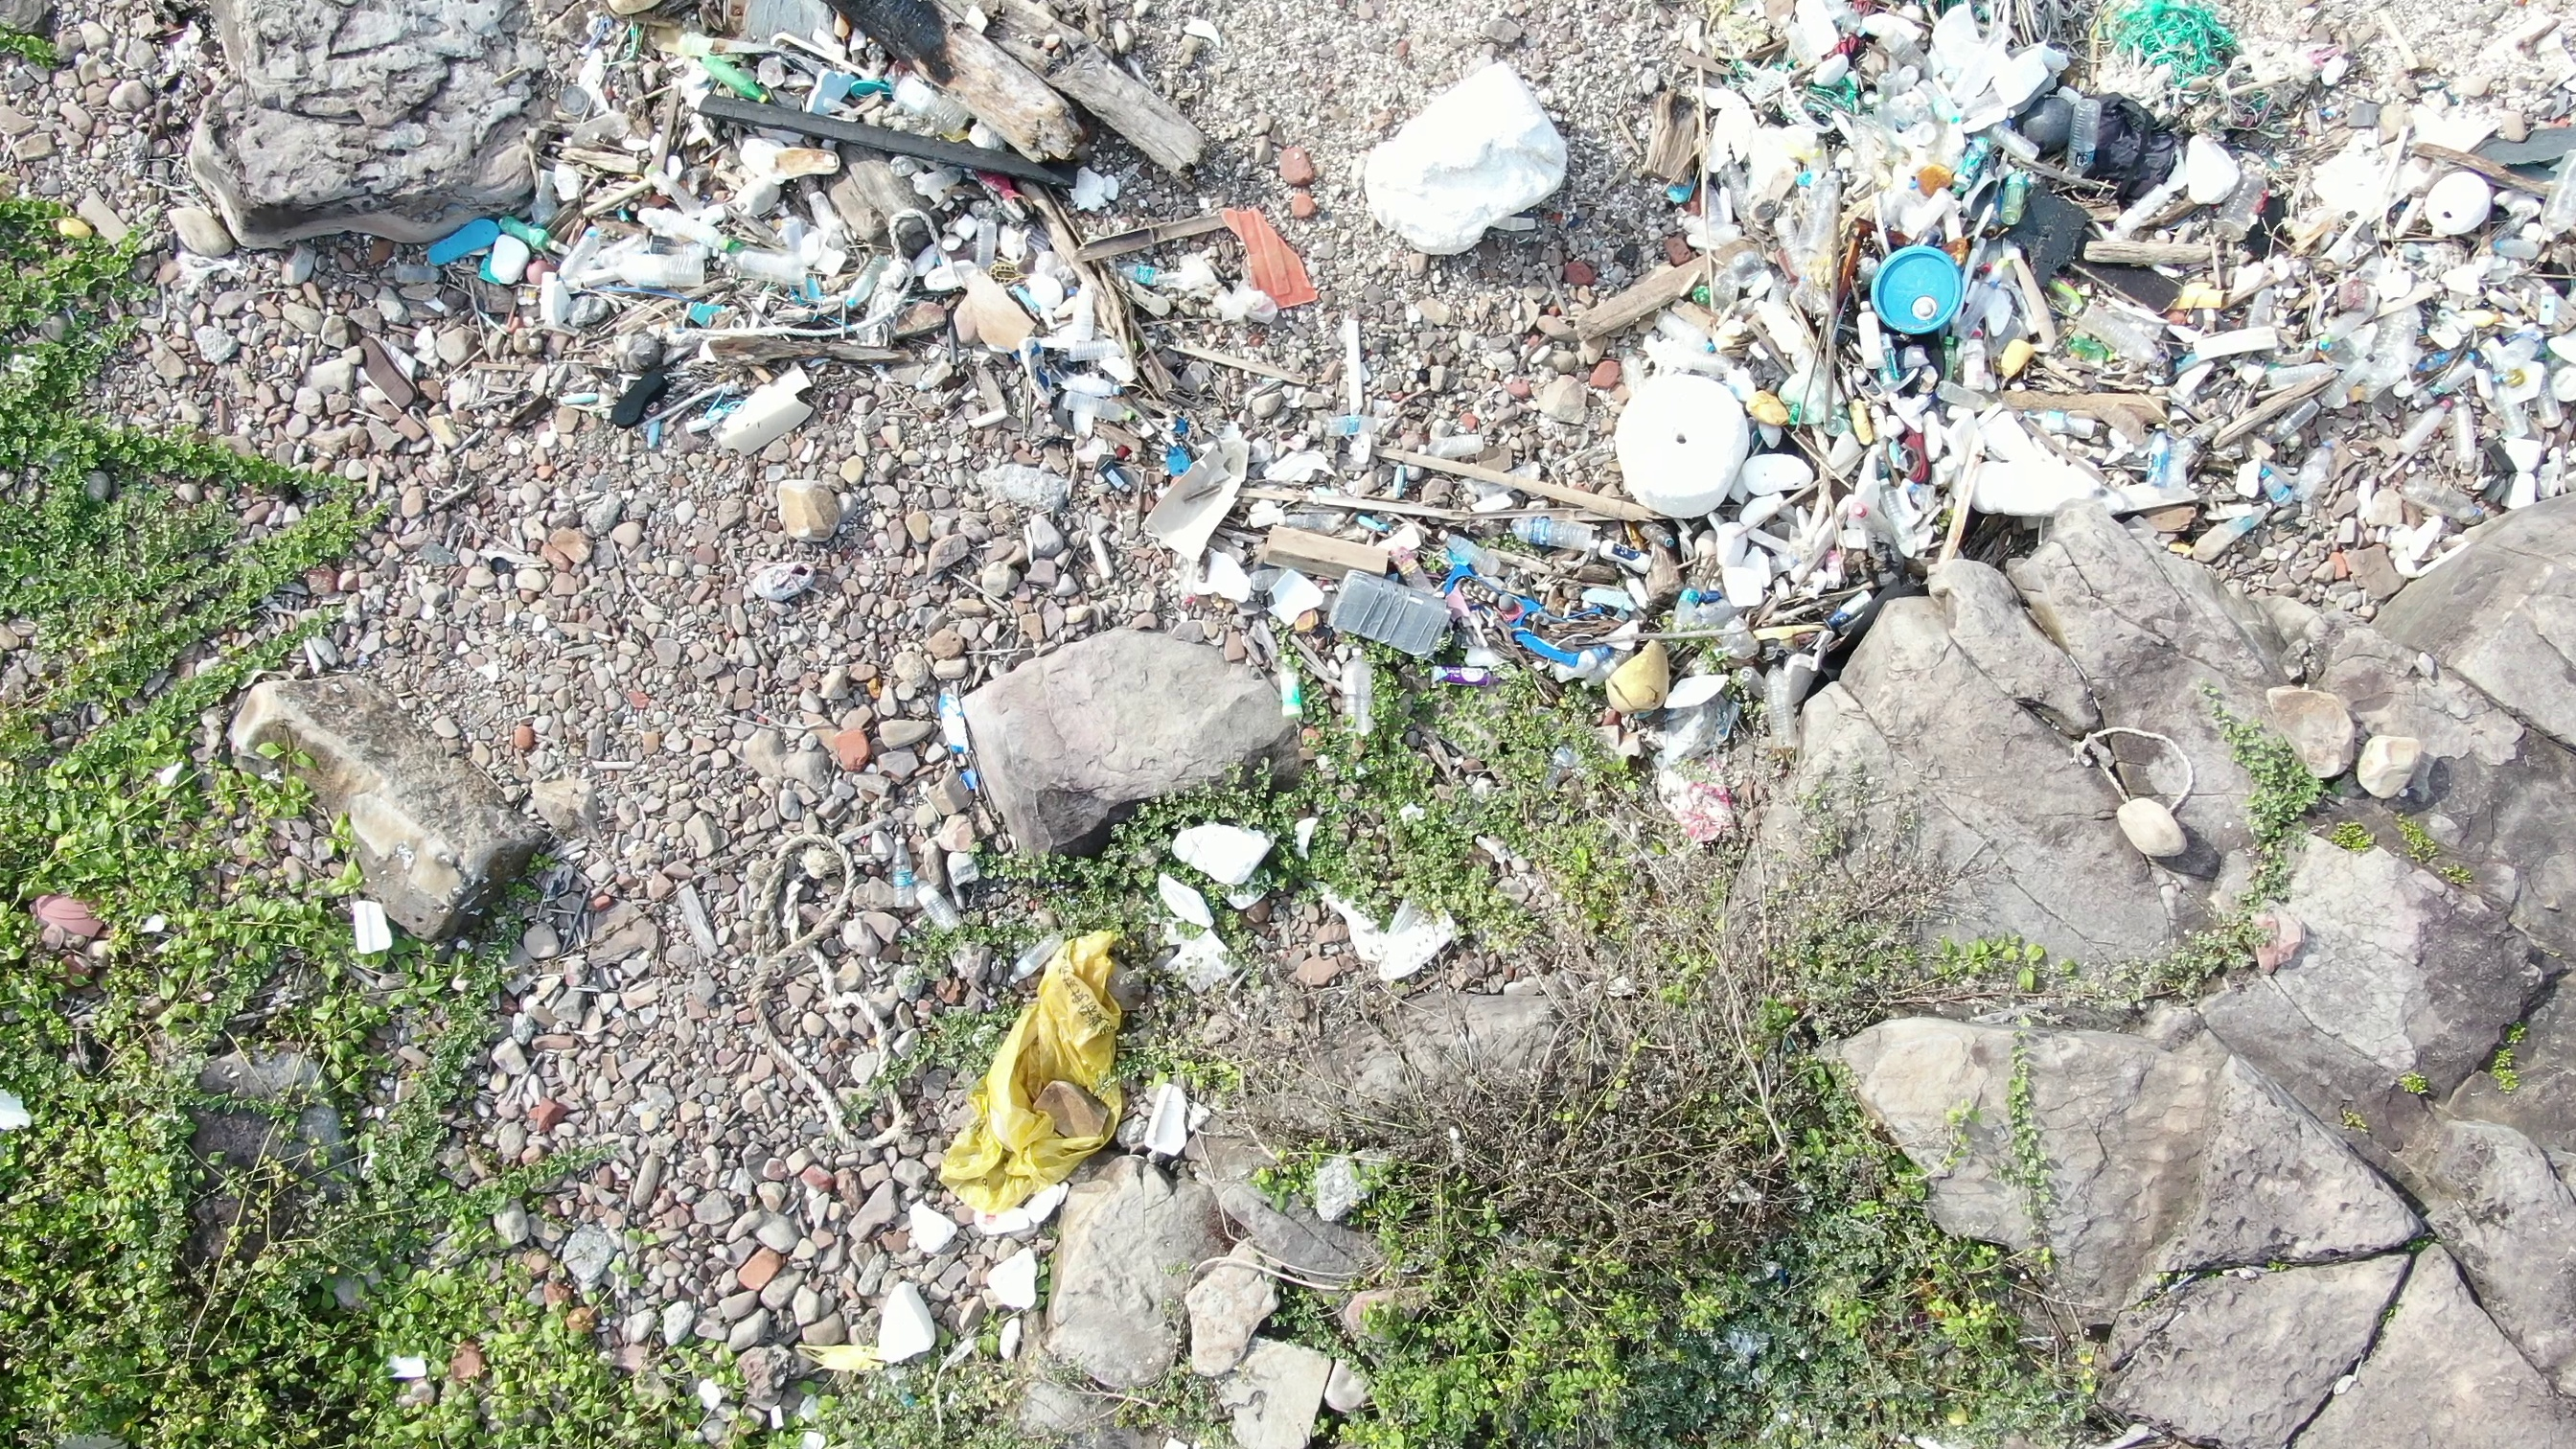bottle: (1329, 630, 1391, 729), (1509, 499, 1608, 556), (879, 812, 924, 927), (1272, 642, 1307, 722)
garbage: (1631, 2, 2576, 587), (428, 2, 1350, 317), (1152, 403, 1734, 729), (538, 308, 1233, 474), (931, 915, 1184, 1247), (2056, 697, 2213, 878), (892, 665, 994, 920), (1638, 718, 1775, 870)
